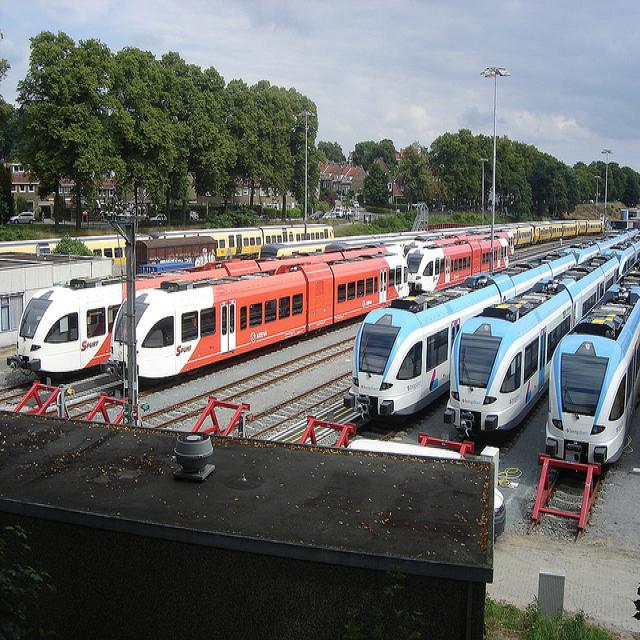Vehicle: (11, 212, 36, 224), (310, 210, 324, 220), (149, 213, 167, 220), (322, 213, 332, 220), (260, 214, 270, 220)
